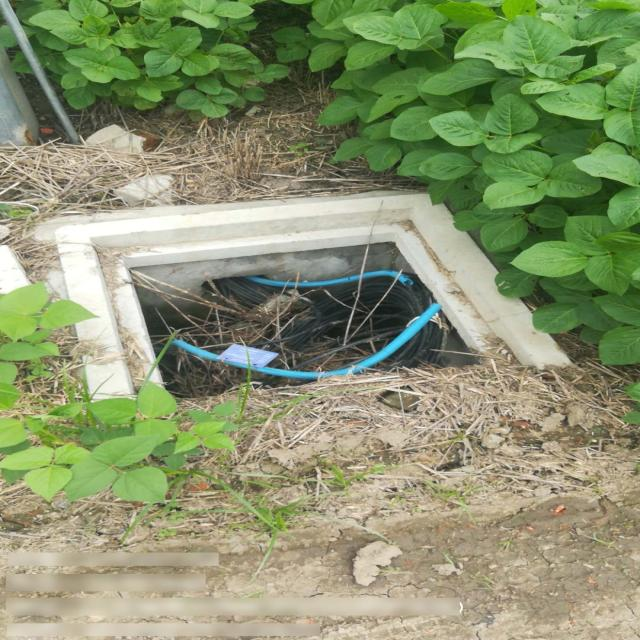Uncovered: (48, 191, 586, 423)
